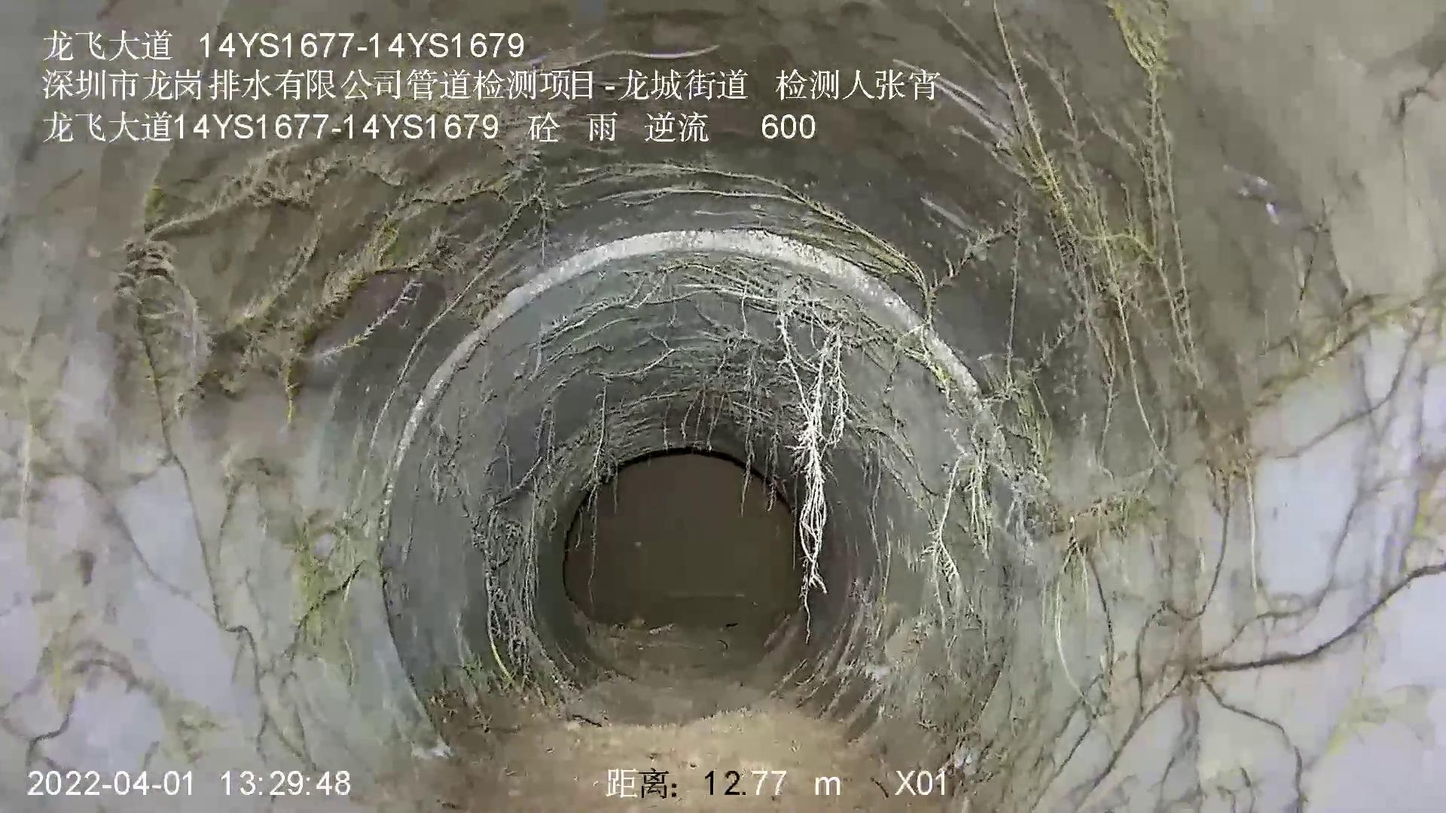CJ: (473, 626, 948, 812)
CKTJ: (370, 229, 1019, 542)
SG: (125, 5, 1185, 732)
